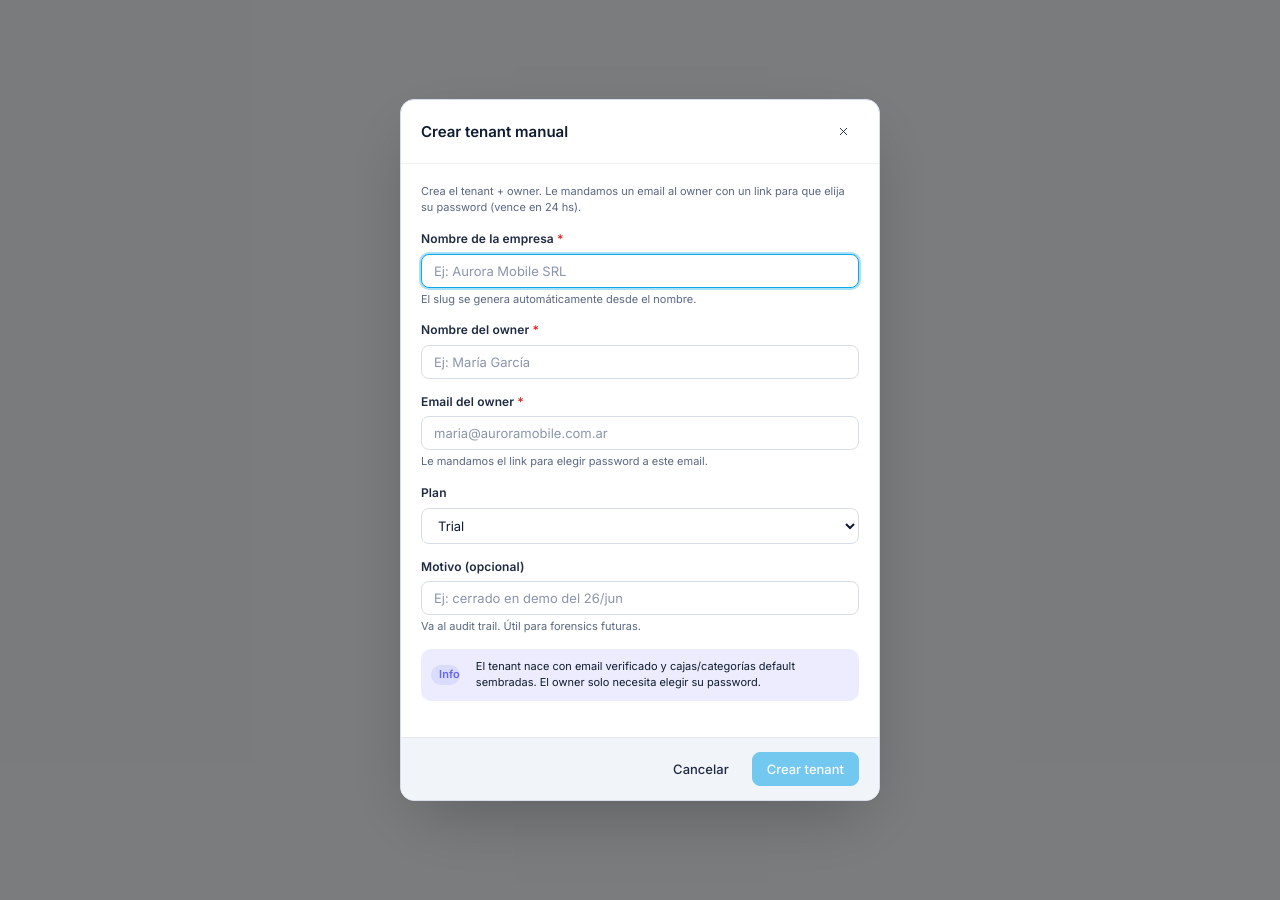
CreateTenantModal (#452) › email inválido bloquea submit y muestra error
In the field with placeholder "Ej: Aurora Mobile SRL": (640, 270) 421,254 -> 859,288, type "Aurora"
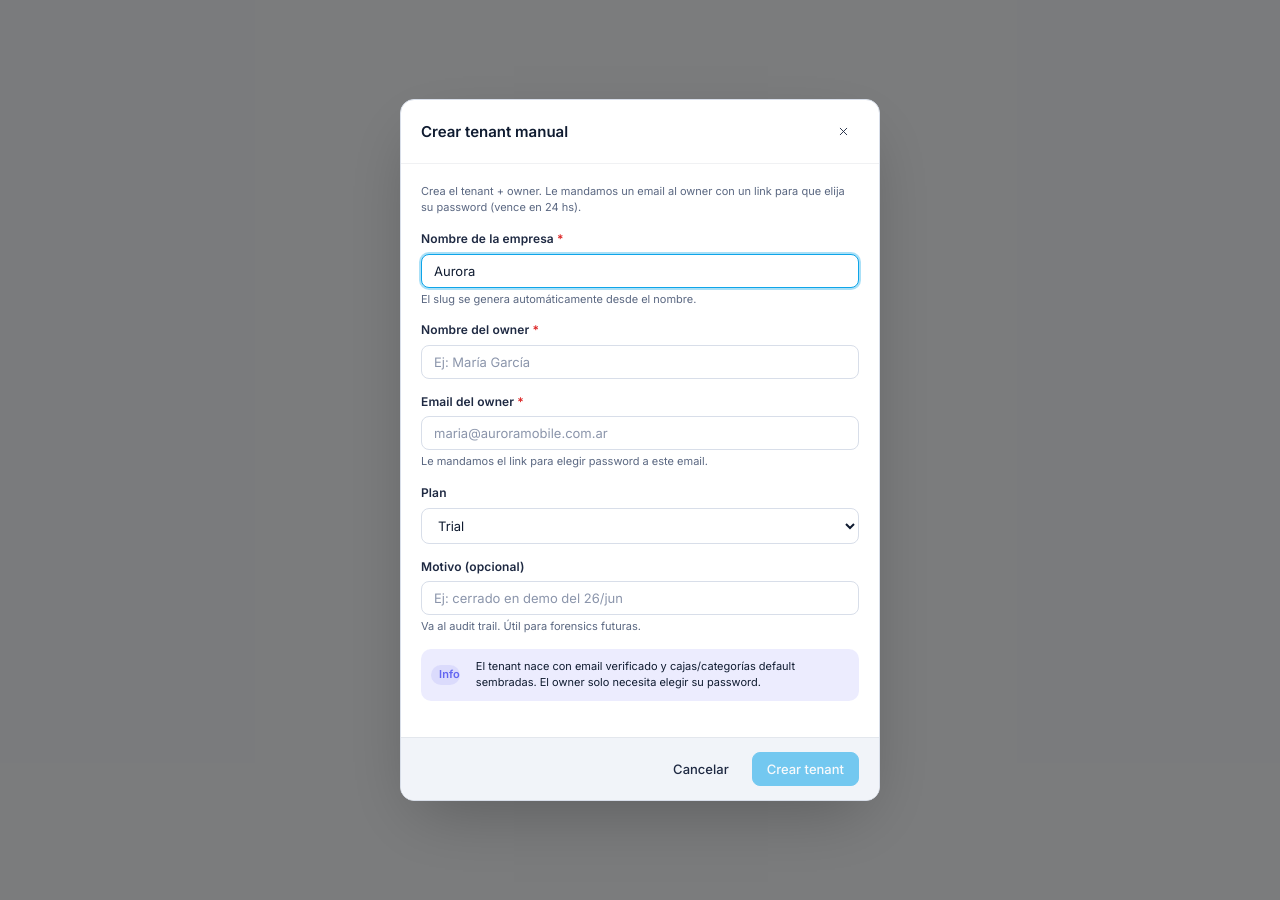
In the field with placeholder "Ej: María García": (640, 362) 421,345 -> 859,379, type "María"
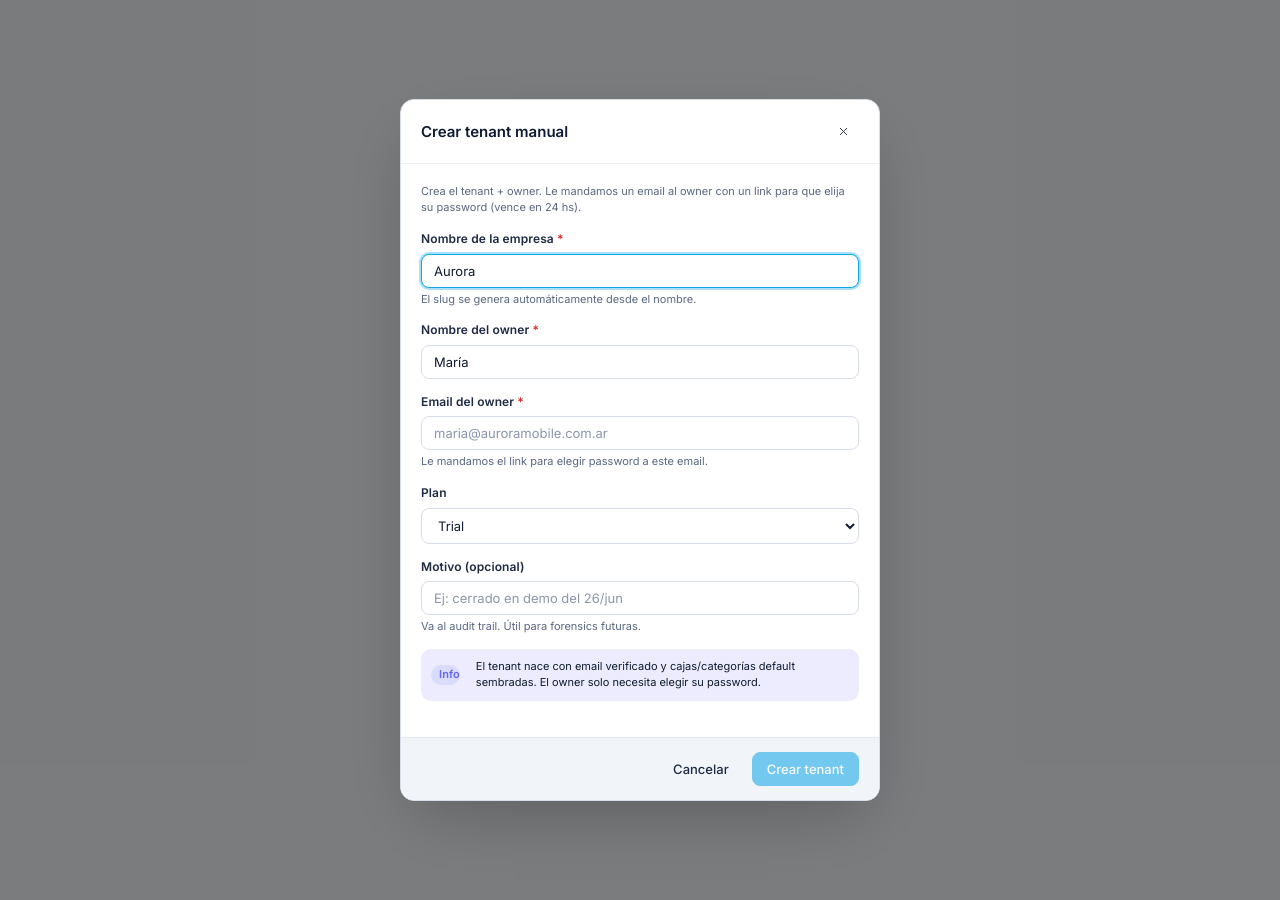
In the field with placeholder "maria@auroramobile.com.ar": (640, 433) 421,416 -> 859,450, type "no-es-email"
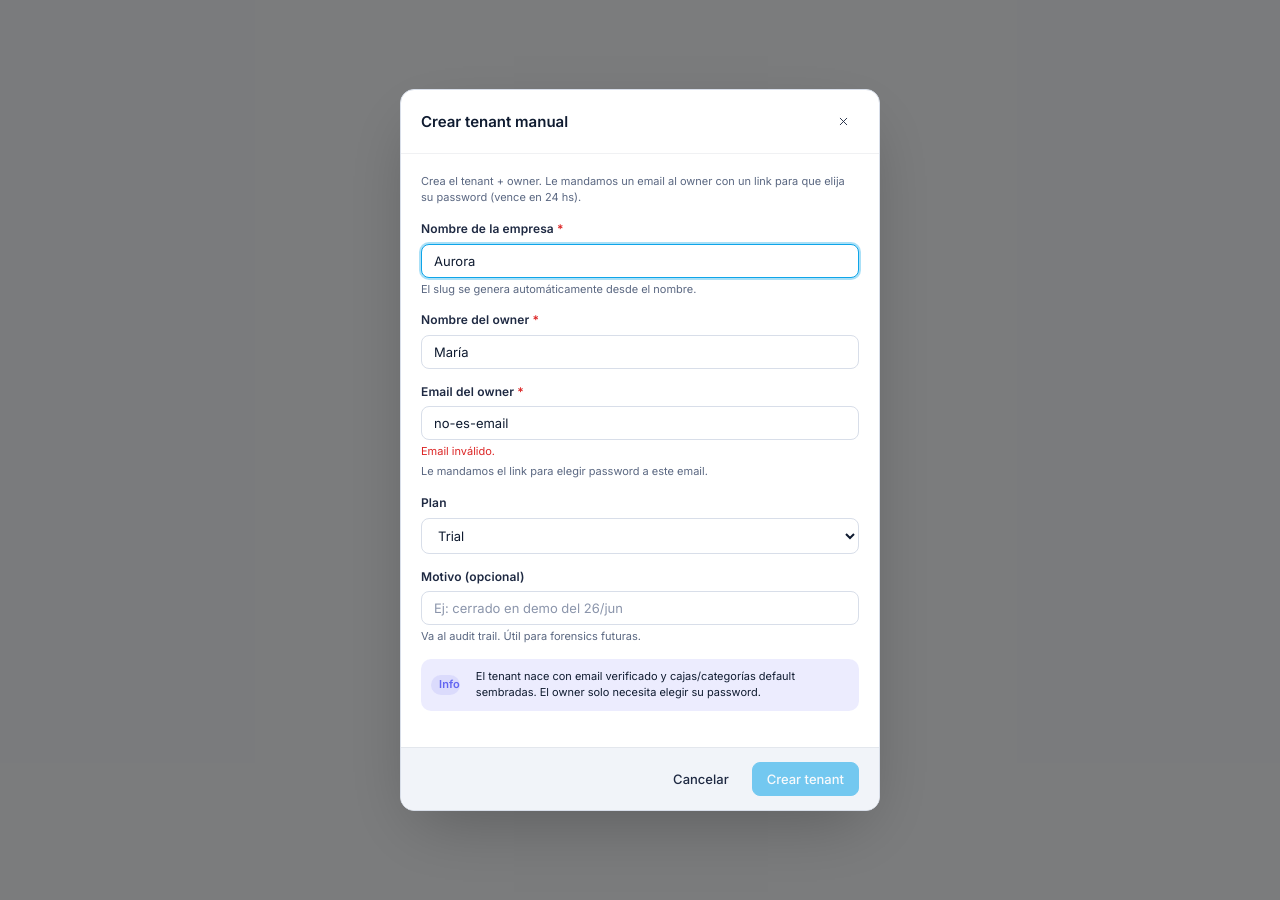
Expected: the button "Crear tenant" is disabled, 752,762 -> 859,796
Now the text "Email inválido." is shown, box 421,444 -> 495,458
